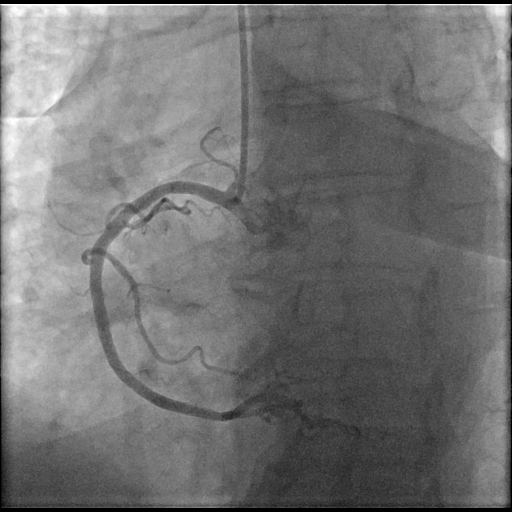RCA: (80, 181, 293, 424)
catherter: (229, 4, 248, 206)
